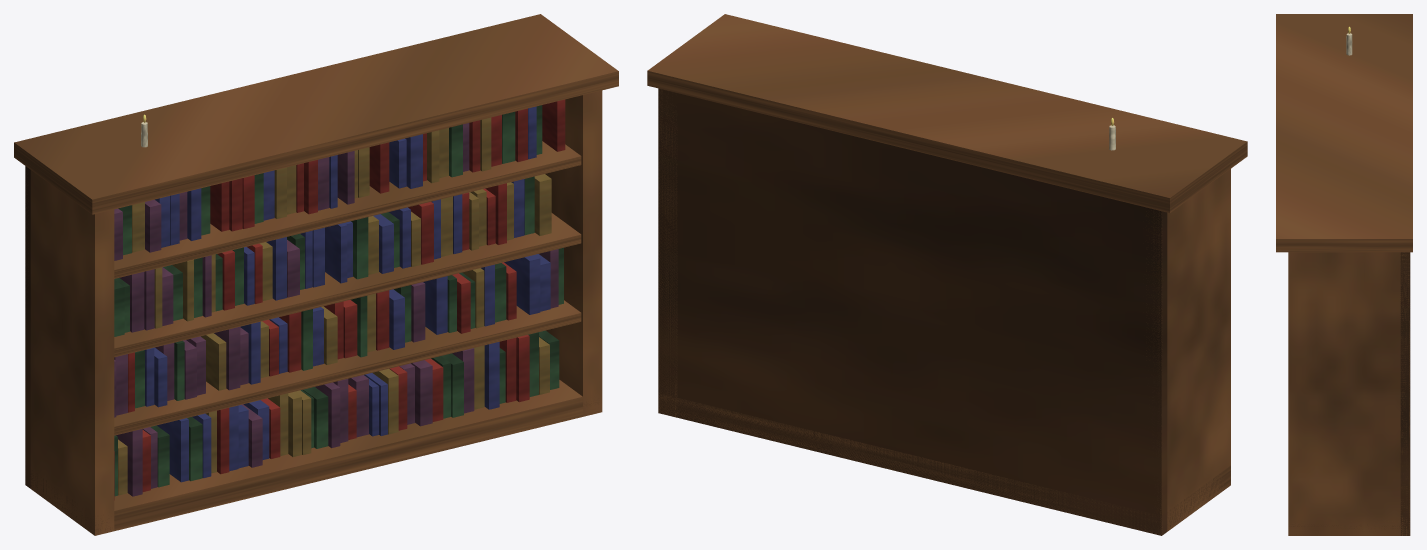
File: bookcase.obj
The picture shows the model from 3 angles, left to right: view 1: azimuth 30°, elevation 25°; view 2: azimuth 150°, elevation 25°; view 3: azimuth 270°, elevation 25°; orthographic projection. The views are drawn at different scales.
Bounding box in the file's own units: 21.8 × 14.85 × 5.6.
1 material, 1 textured.
